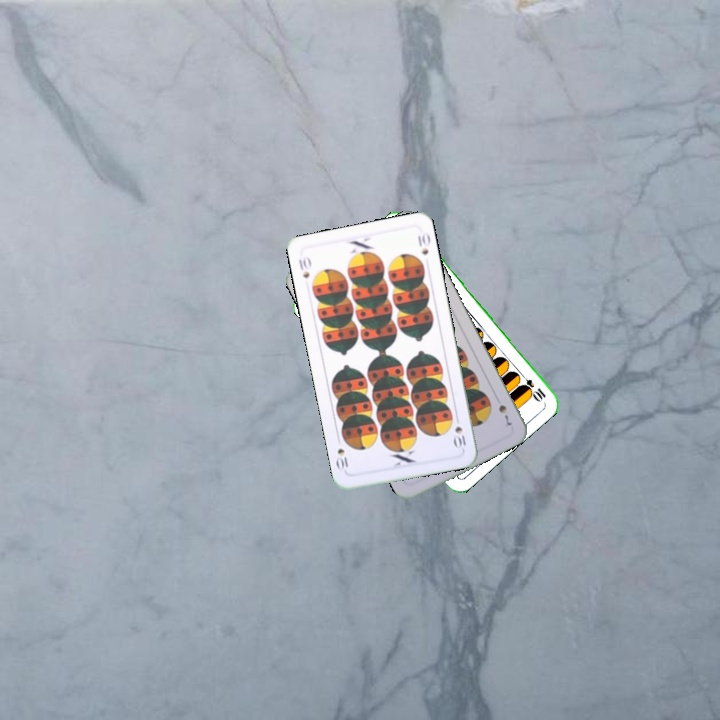E10: (515, 369, 548, 404)
S10: (450, 411, 468, 452), (294, 252, 313, 280)
S7: (494, 400, 515, 430)
